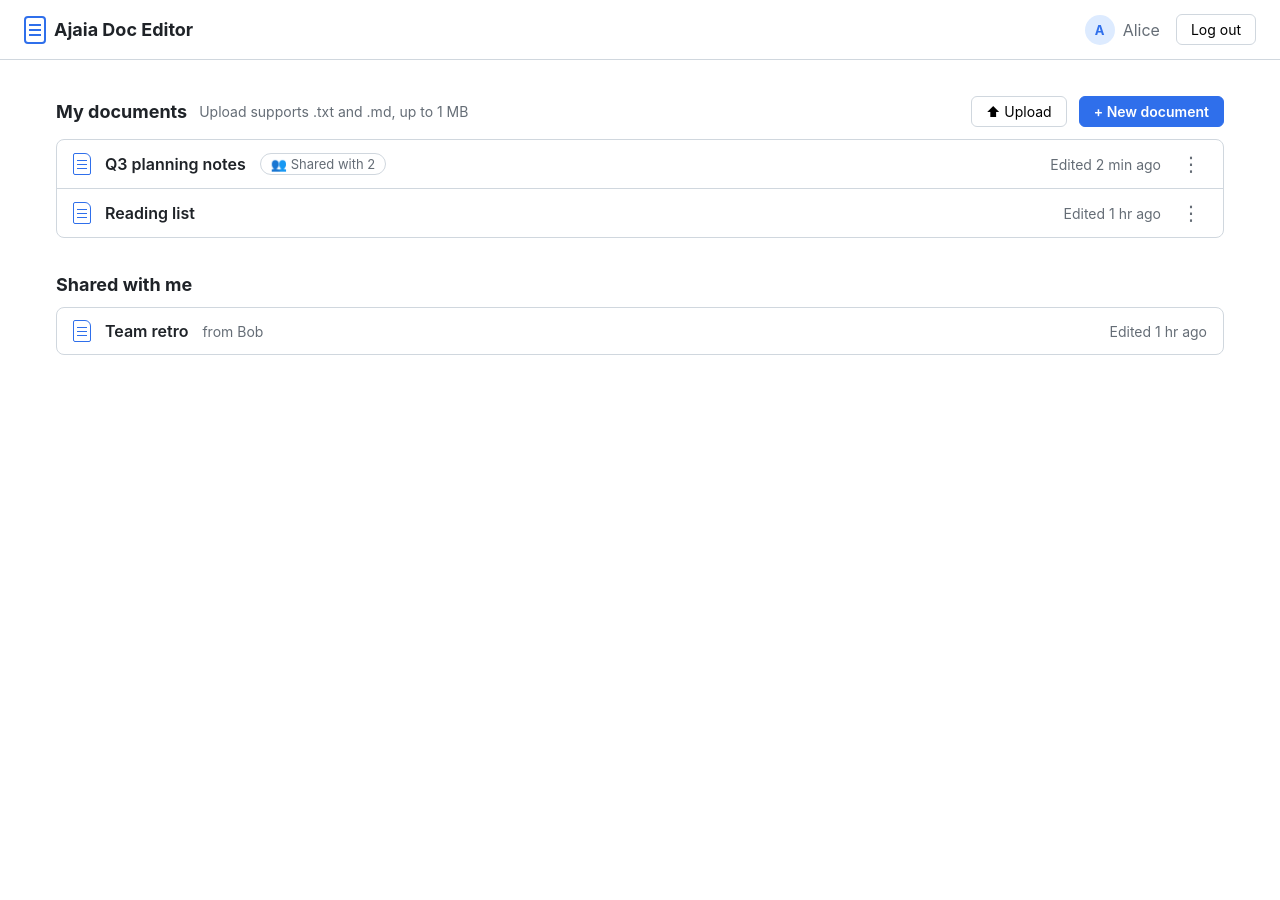
Test: document list › creates a document and opens it in the editor
Click the button "+ New document": (1151, 112) [1079,96,1224,127]
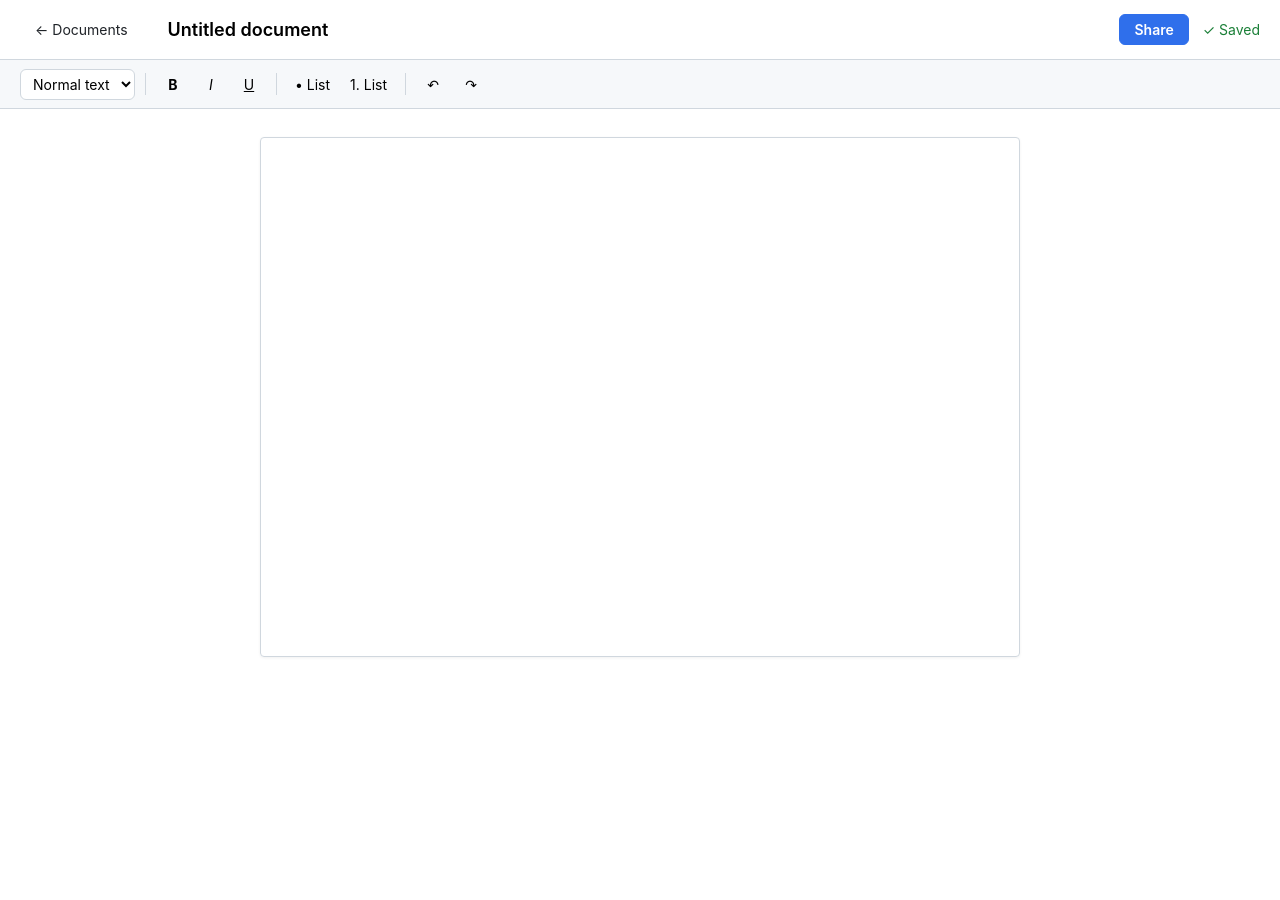
Expected: the field named "Document title" holds "Untitled document", [157,13,397,46]
